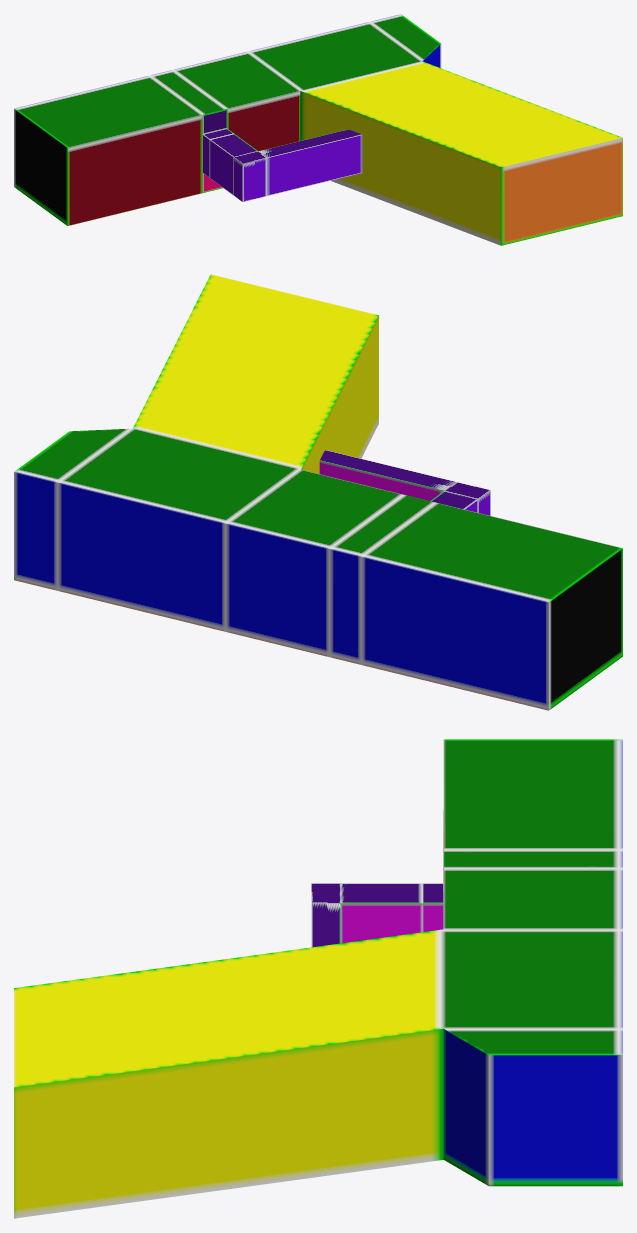
Rendered from Glock18c_r___.FBX.
3 renders of one model, top to bottom at view 1: azimuth 30°, elevation 25°; view 2: azimuth 150°, elevation 25°; view 3: azimuth 270°, elevation 25°, orthographic. The views are drawn at different scales.
Parts seen in each view (by area): view 1: Box001; view 2: Box001; view 3: Box001.
Boxes of the visible parts, x1,y1,x2,y2 form: Box001: (14, 14, 622, 245); Box001: (14, 274, 622, 710); Box001: (14, 739, 622, 1218).
Size of the model in its own units: 56.97 by 10 by 42.11.
Materials: 1 (1 with a texture image).
